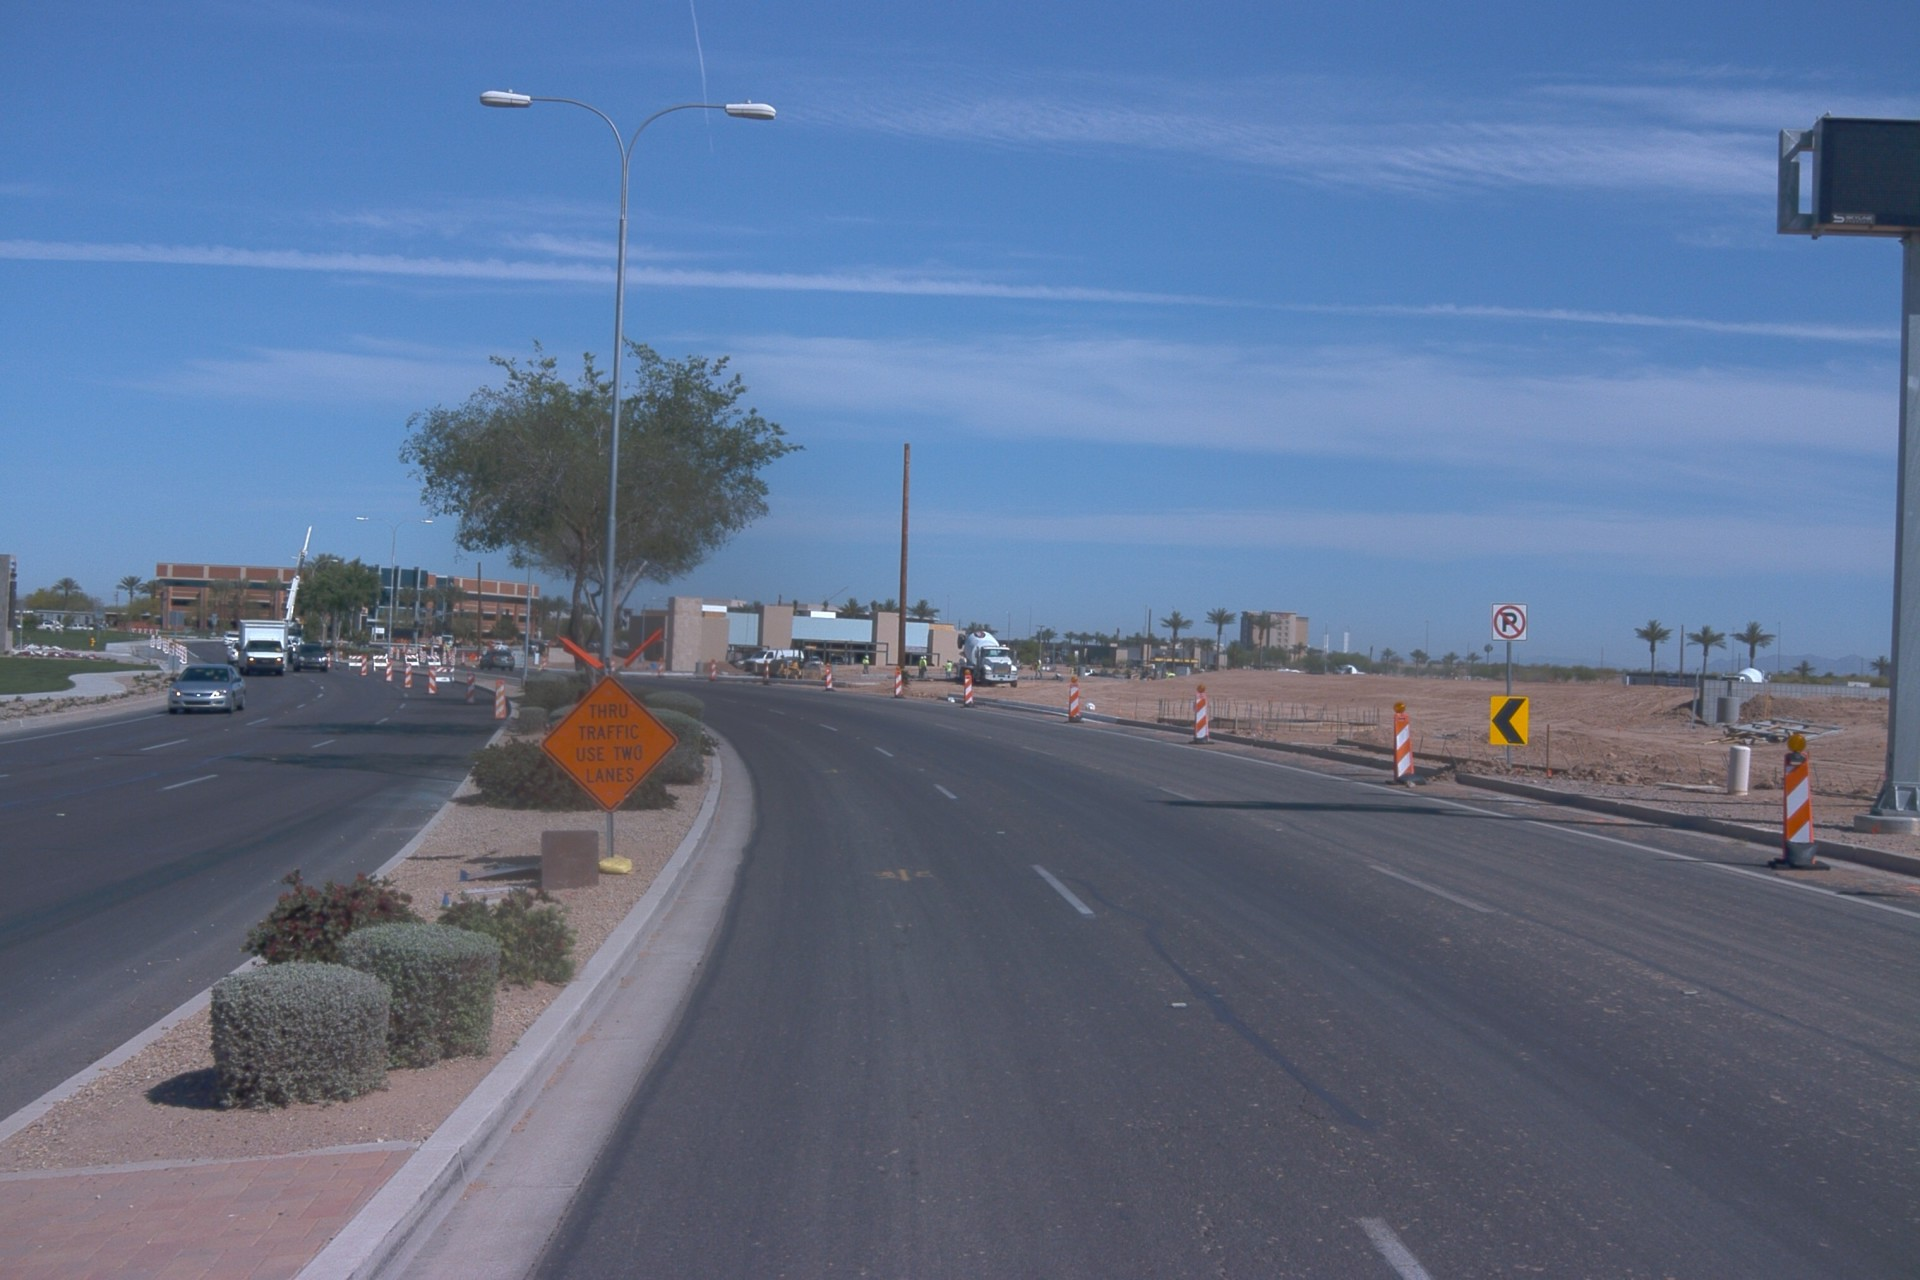TYPE_PEDESTRIAN: (919, 656, 928, 682), (1031, 662, 1042, 682), (941, 660, 951, 681), (862, 652, 870, 675), (917, 656, 923, 678)
TYPE_VEHICLE: (236, 520, 320, 681), (168, 663, 248, 715), (233, 619, 290, 677), (290, 641, 329, 671), (1723, 665, 1769, 688), (478, 647, 516, 673), (744, 649, 804, 665), (1126, 661, 1166, 682), (32, 619, 68, 633), (729, 652, 754, 672), (226, 638, 243, 663), (1274, 668, 1308, 677), (219, 634, 237, 649), (808, 652, 824, 666), (287, 634, 301, 649), (916, 661, 937, 668), (957, 655, 967, 667), (1085, 669, 1098, 678), (886, 662, 899, 667)
